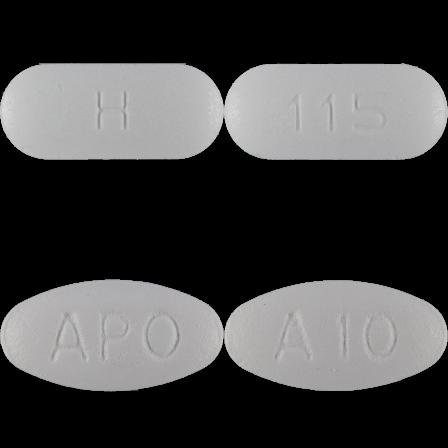60760-347: (0, 0, 224, 224)
